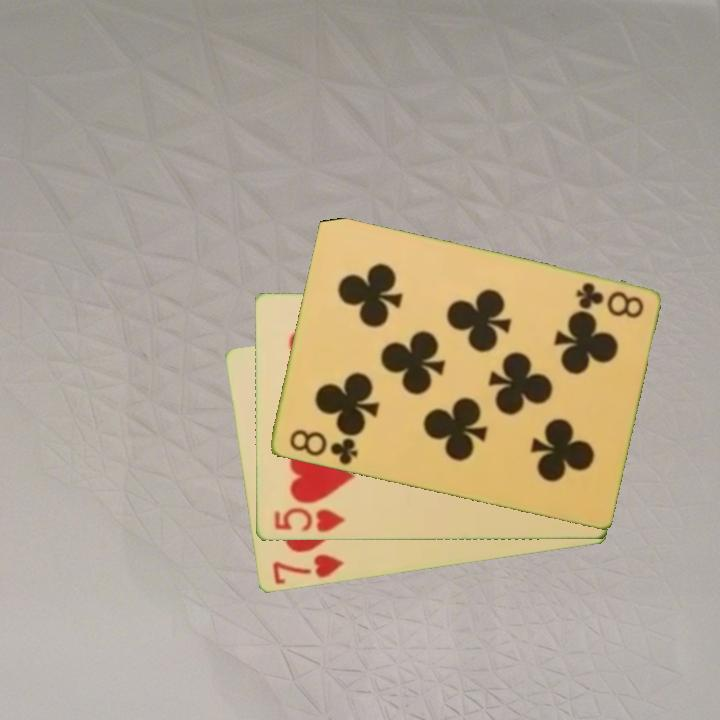5h: (270, 504, 348, 535)
7h: (269, 551, 347, 588)
8c: (285, 426, 360, 469), (572, 279, 646, 322)
